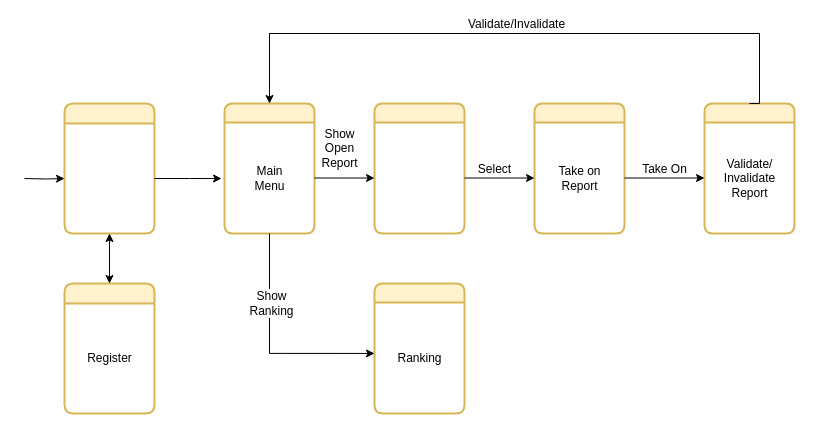
Some shapes in this 813 by 432 pixel diagram are drawn without their labels. The box of each missing label's shape, as (x1, y1, x2, y2) in pixels:
Login: (63, 102, 155, 234)
Open Violation List: (373, 102, 465, 234)
